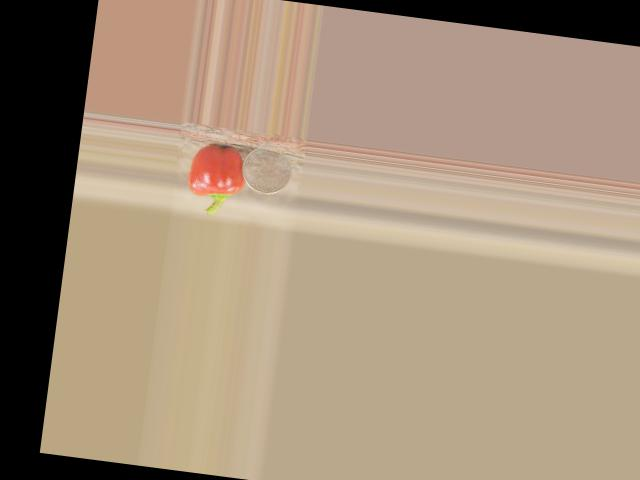bell_pepper: (183, 139, 247, 217)
